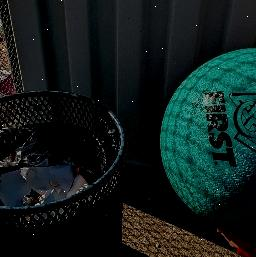algae: (158, 44, 256, 233)
